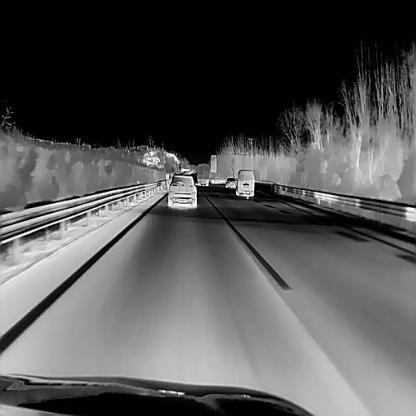car: (167, 171, 197, 206), (235, 167, 254, 196), (195, 163, 210, 186), (224, 176, 235, 188)
